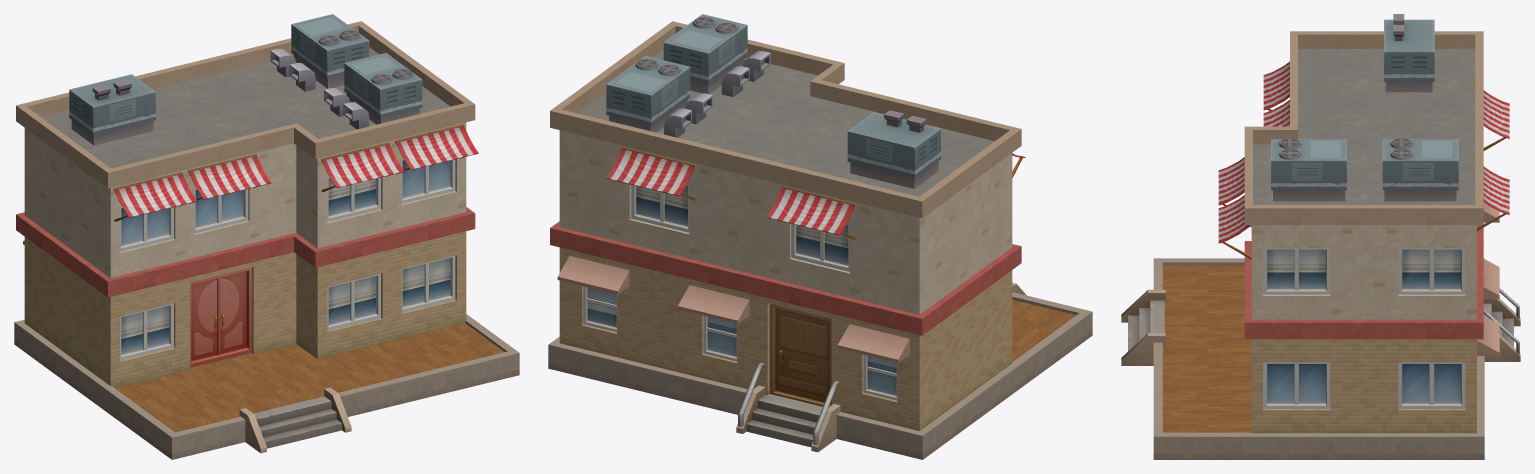
File: Building_2.glb
3 renders of one model, left to right at view 1: azimuth 30°, elevation 25°; view 2: azimuth 150°, elevation 25°; view 3: azimuth 270°, elevation 25°, orthographic. The views are drawn at different scales.
Visible parts, largest first — view 1: Building_2_Roof; view 2: Building_2_Roof; view 3: Building_2_Roof.
Boxes of the visible parts, bbox=[...] form: Building_2_Roof: bbox=[14, 14, 519, 459]; Building_2_Roof: bbox=[548, 14, 1092, 459]; Building_2_Roof: bbox=[1121, 14, 1520, 459].
Bounding box in the file's own units: 9.35 × 7.07 × 8.87.
Materials: 13 (13 with a texture image).
